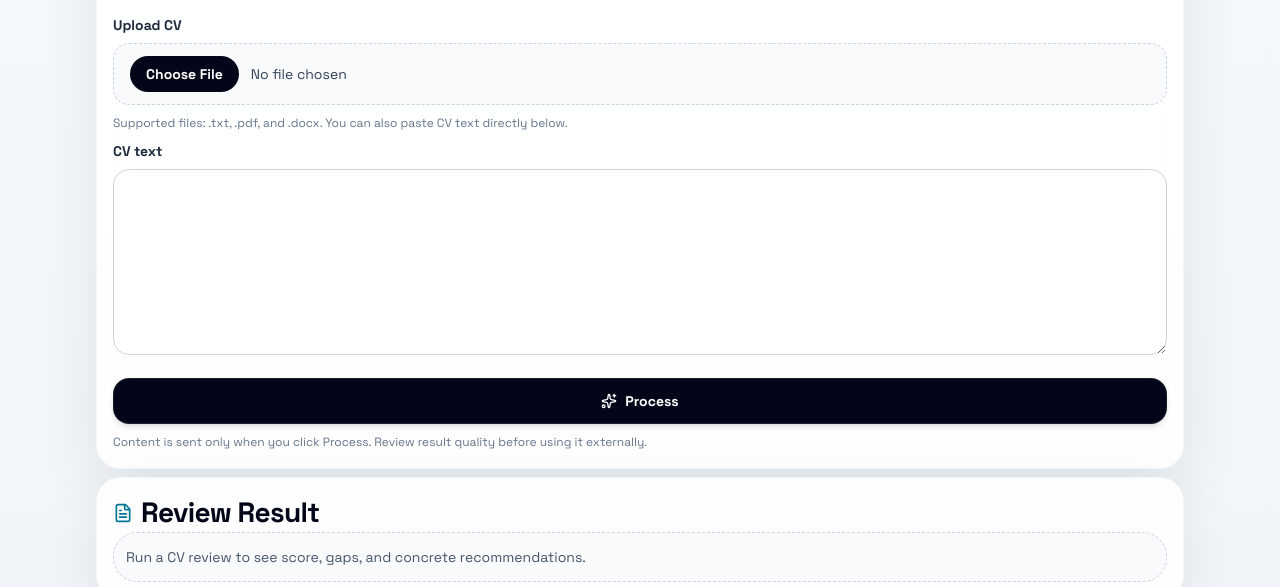
App › validates and renders Candidate review results
This screenshot has width=1280, height=587.
(page scrolled)
Click the button "Process" at (640, 401), box [113,378,1167,424]
(page scrolled)
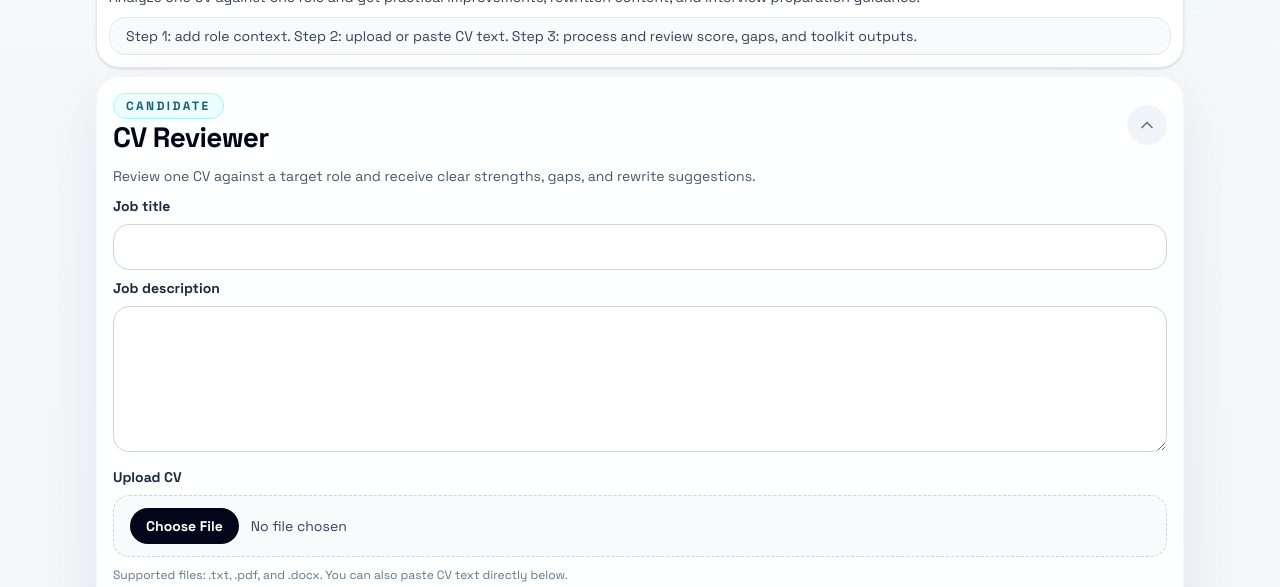
Type "Frontend Engineer" into the field labelled "Job title" at (640, 247), box [113,224,1167,270]
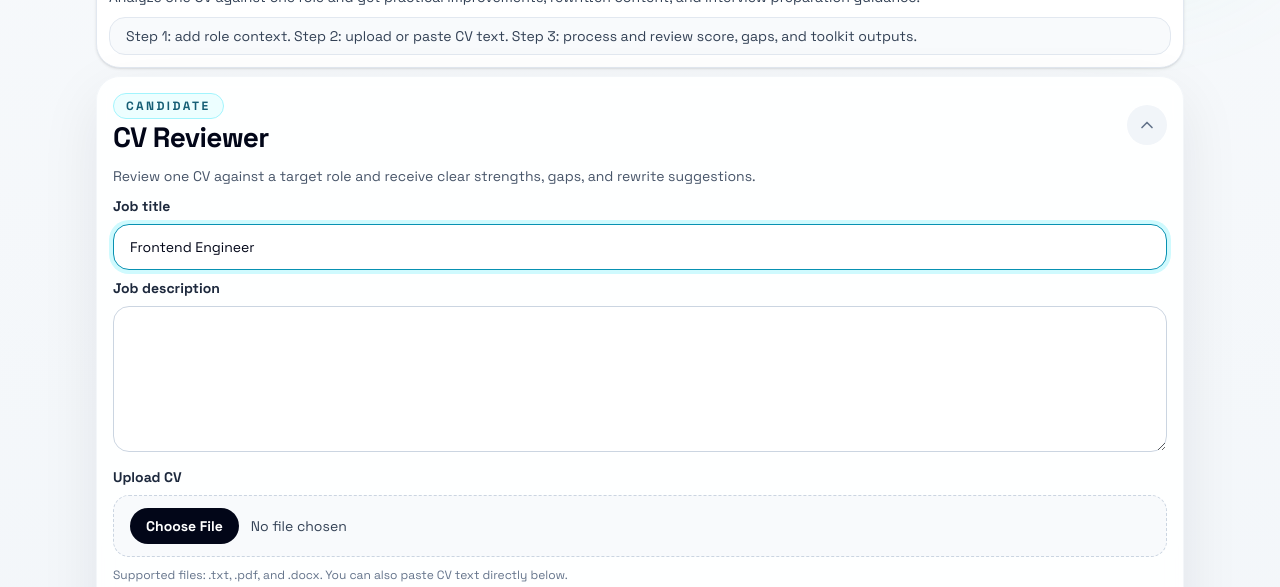
Type "Build React products." into the text box labelled "Job description" at (640, 379), box [113,306,1167,452]
(page scrolled)
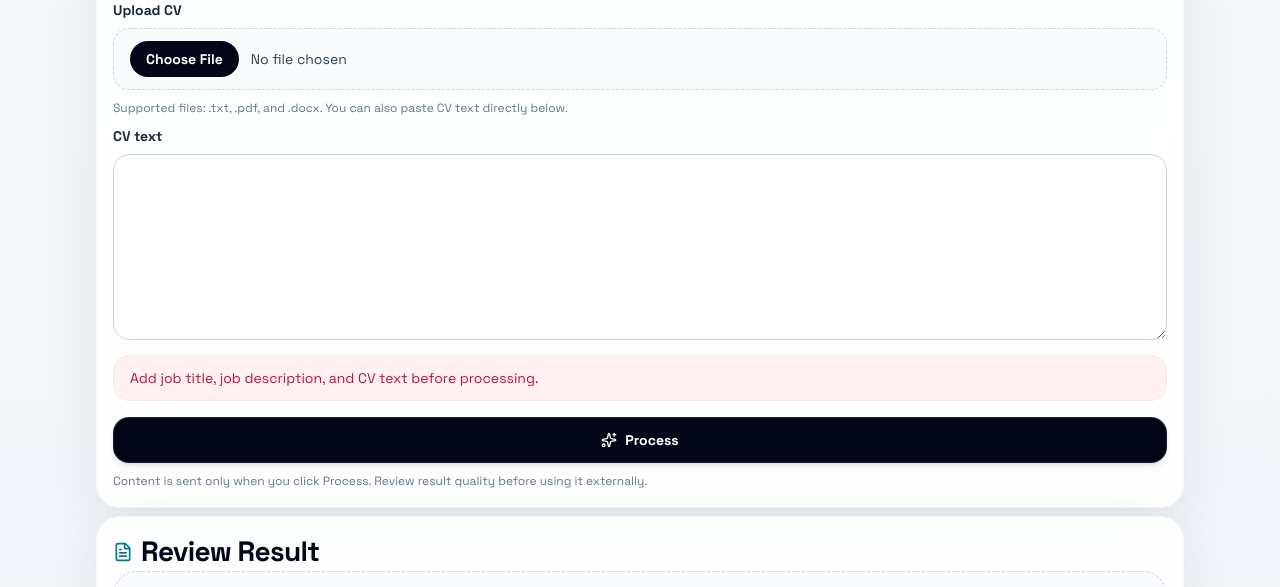
Type "Built and maintained React applications." into the text box labelled "CV text" at (640, 247), box [113,154,1167,340]
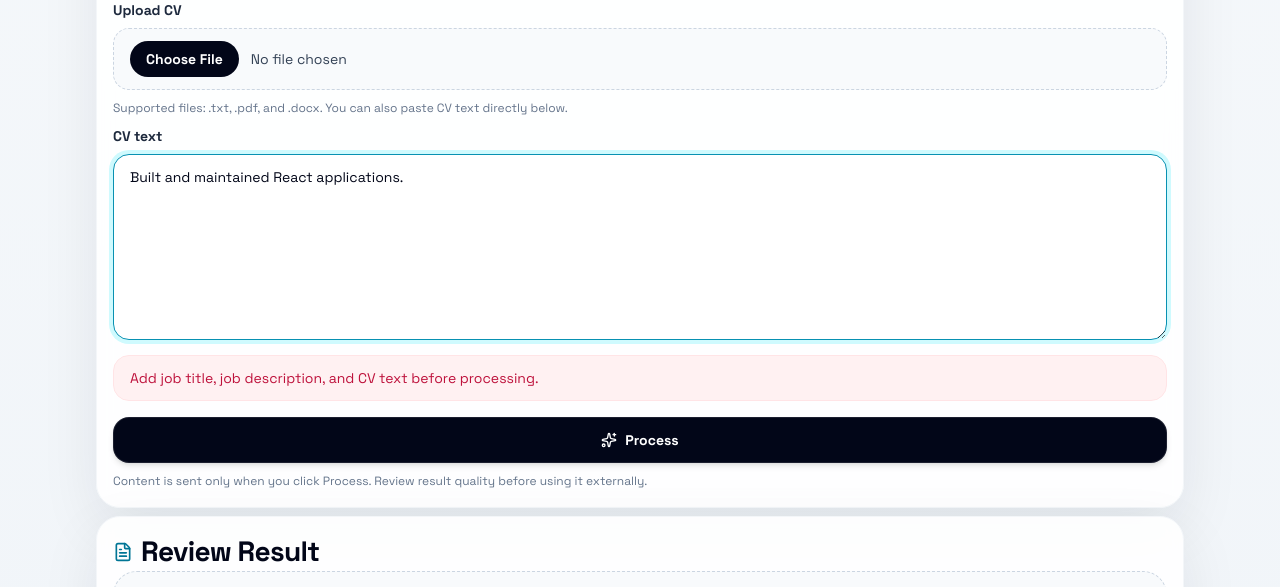
Click the button "Process" at (640, 440), box [113,417,1167,463]
(page scrolled)
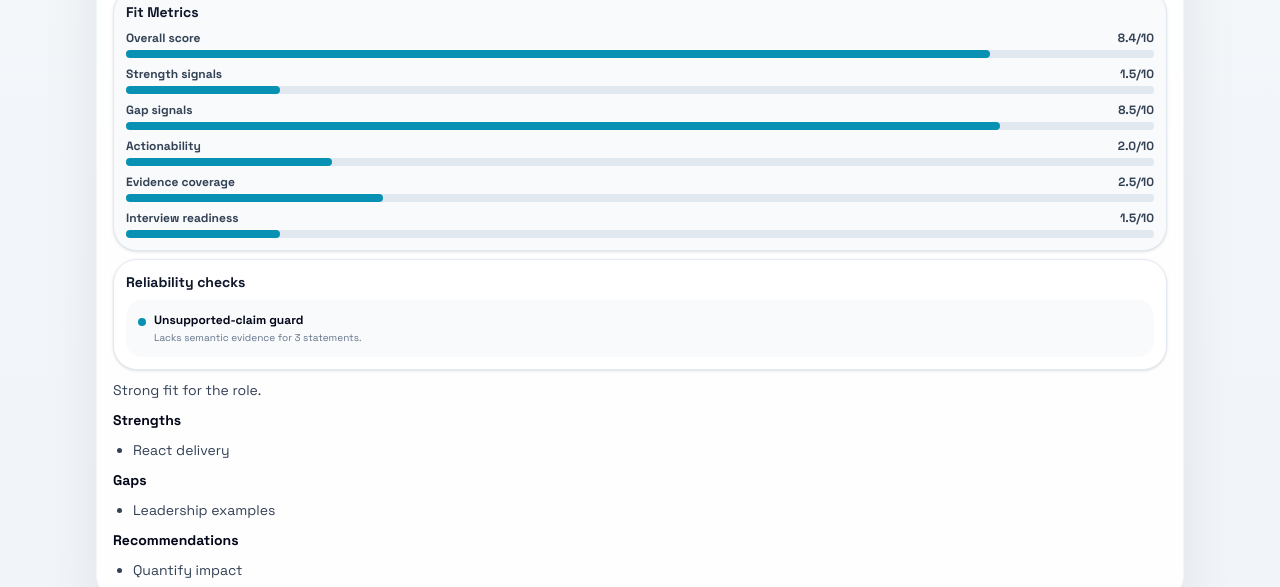
Expected: the heading "Recommendations" is shown, [113,531,238,549]
Expected: the text "Strong fit for the role." is shown, [113,381,261,399]
